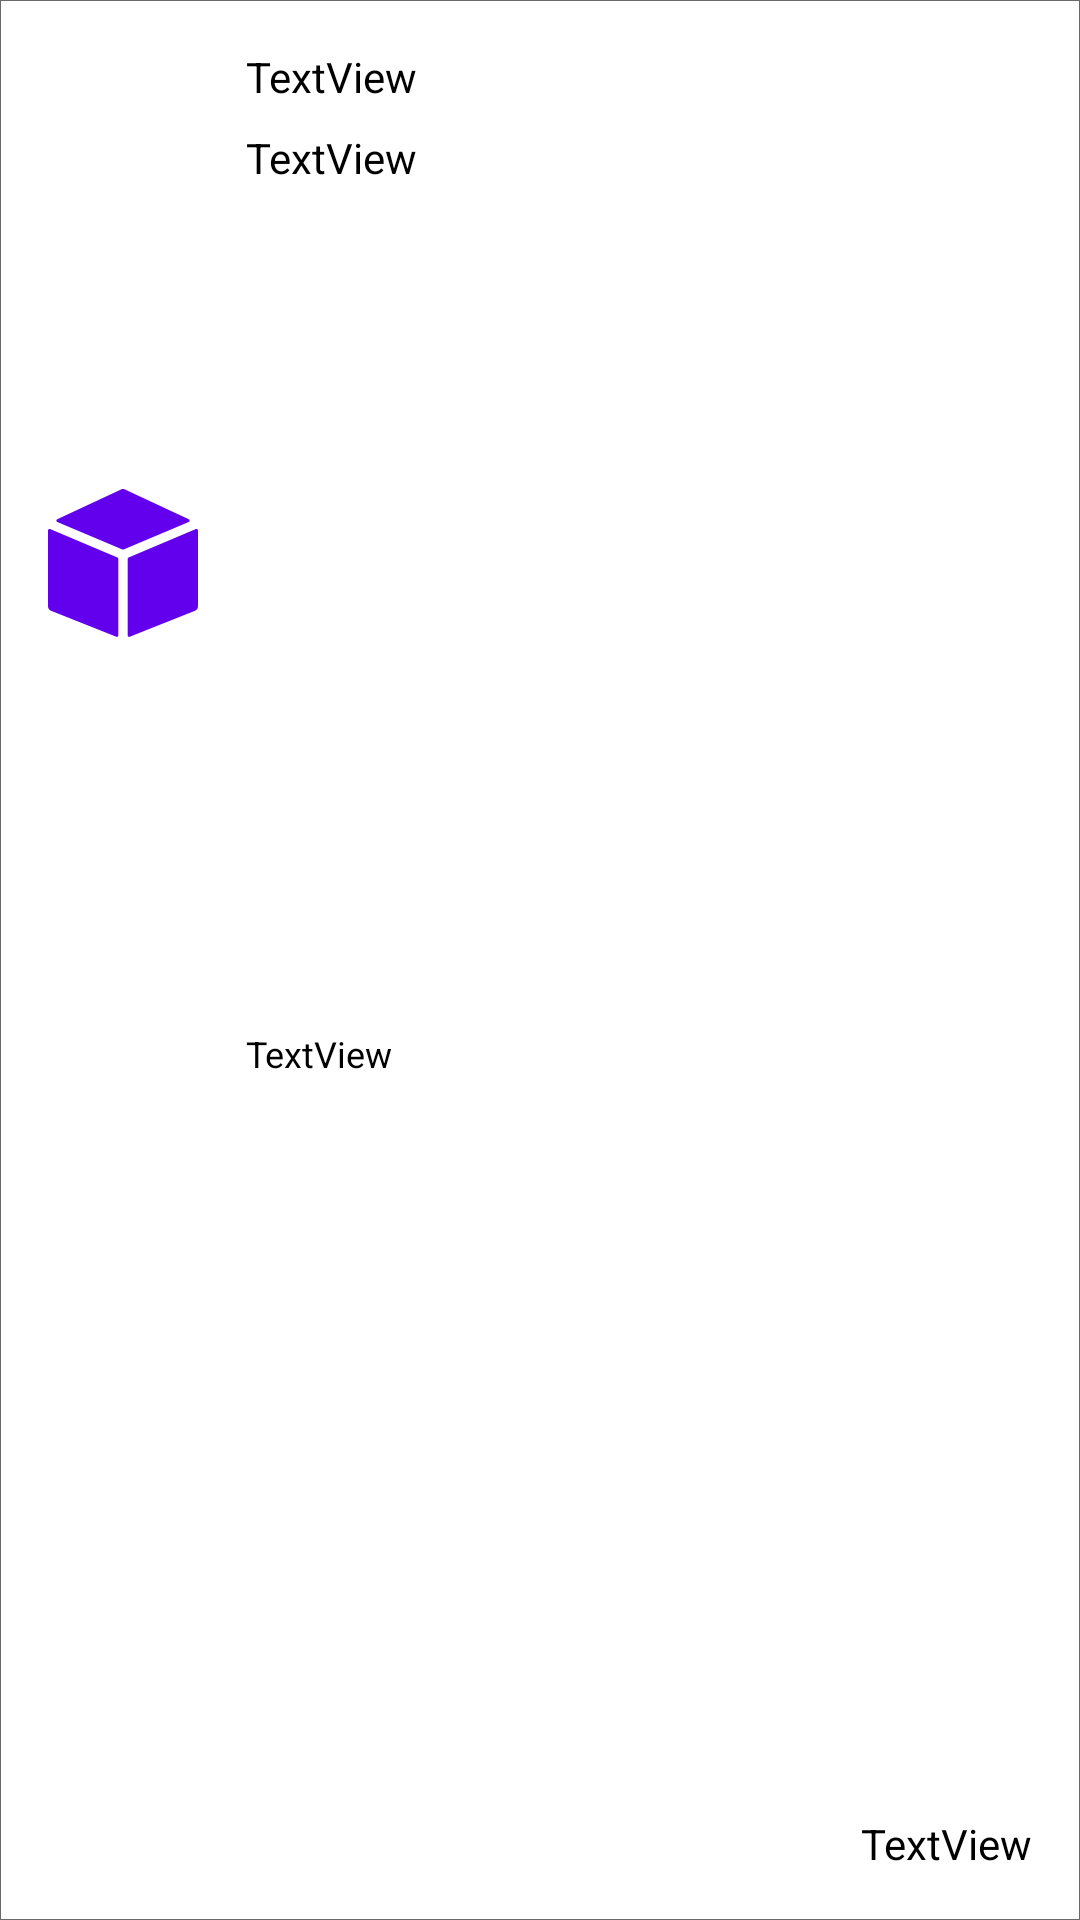

Icon click points for this 1080 x 1920 phone screenshot, format [x,y]:
box: [123,563]
